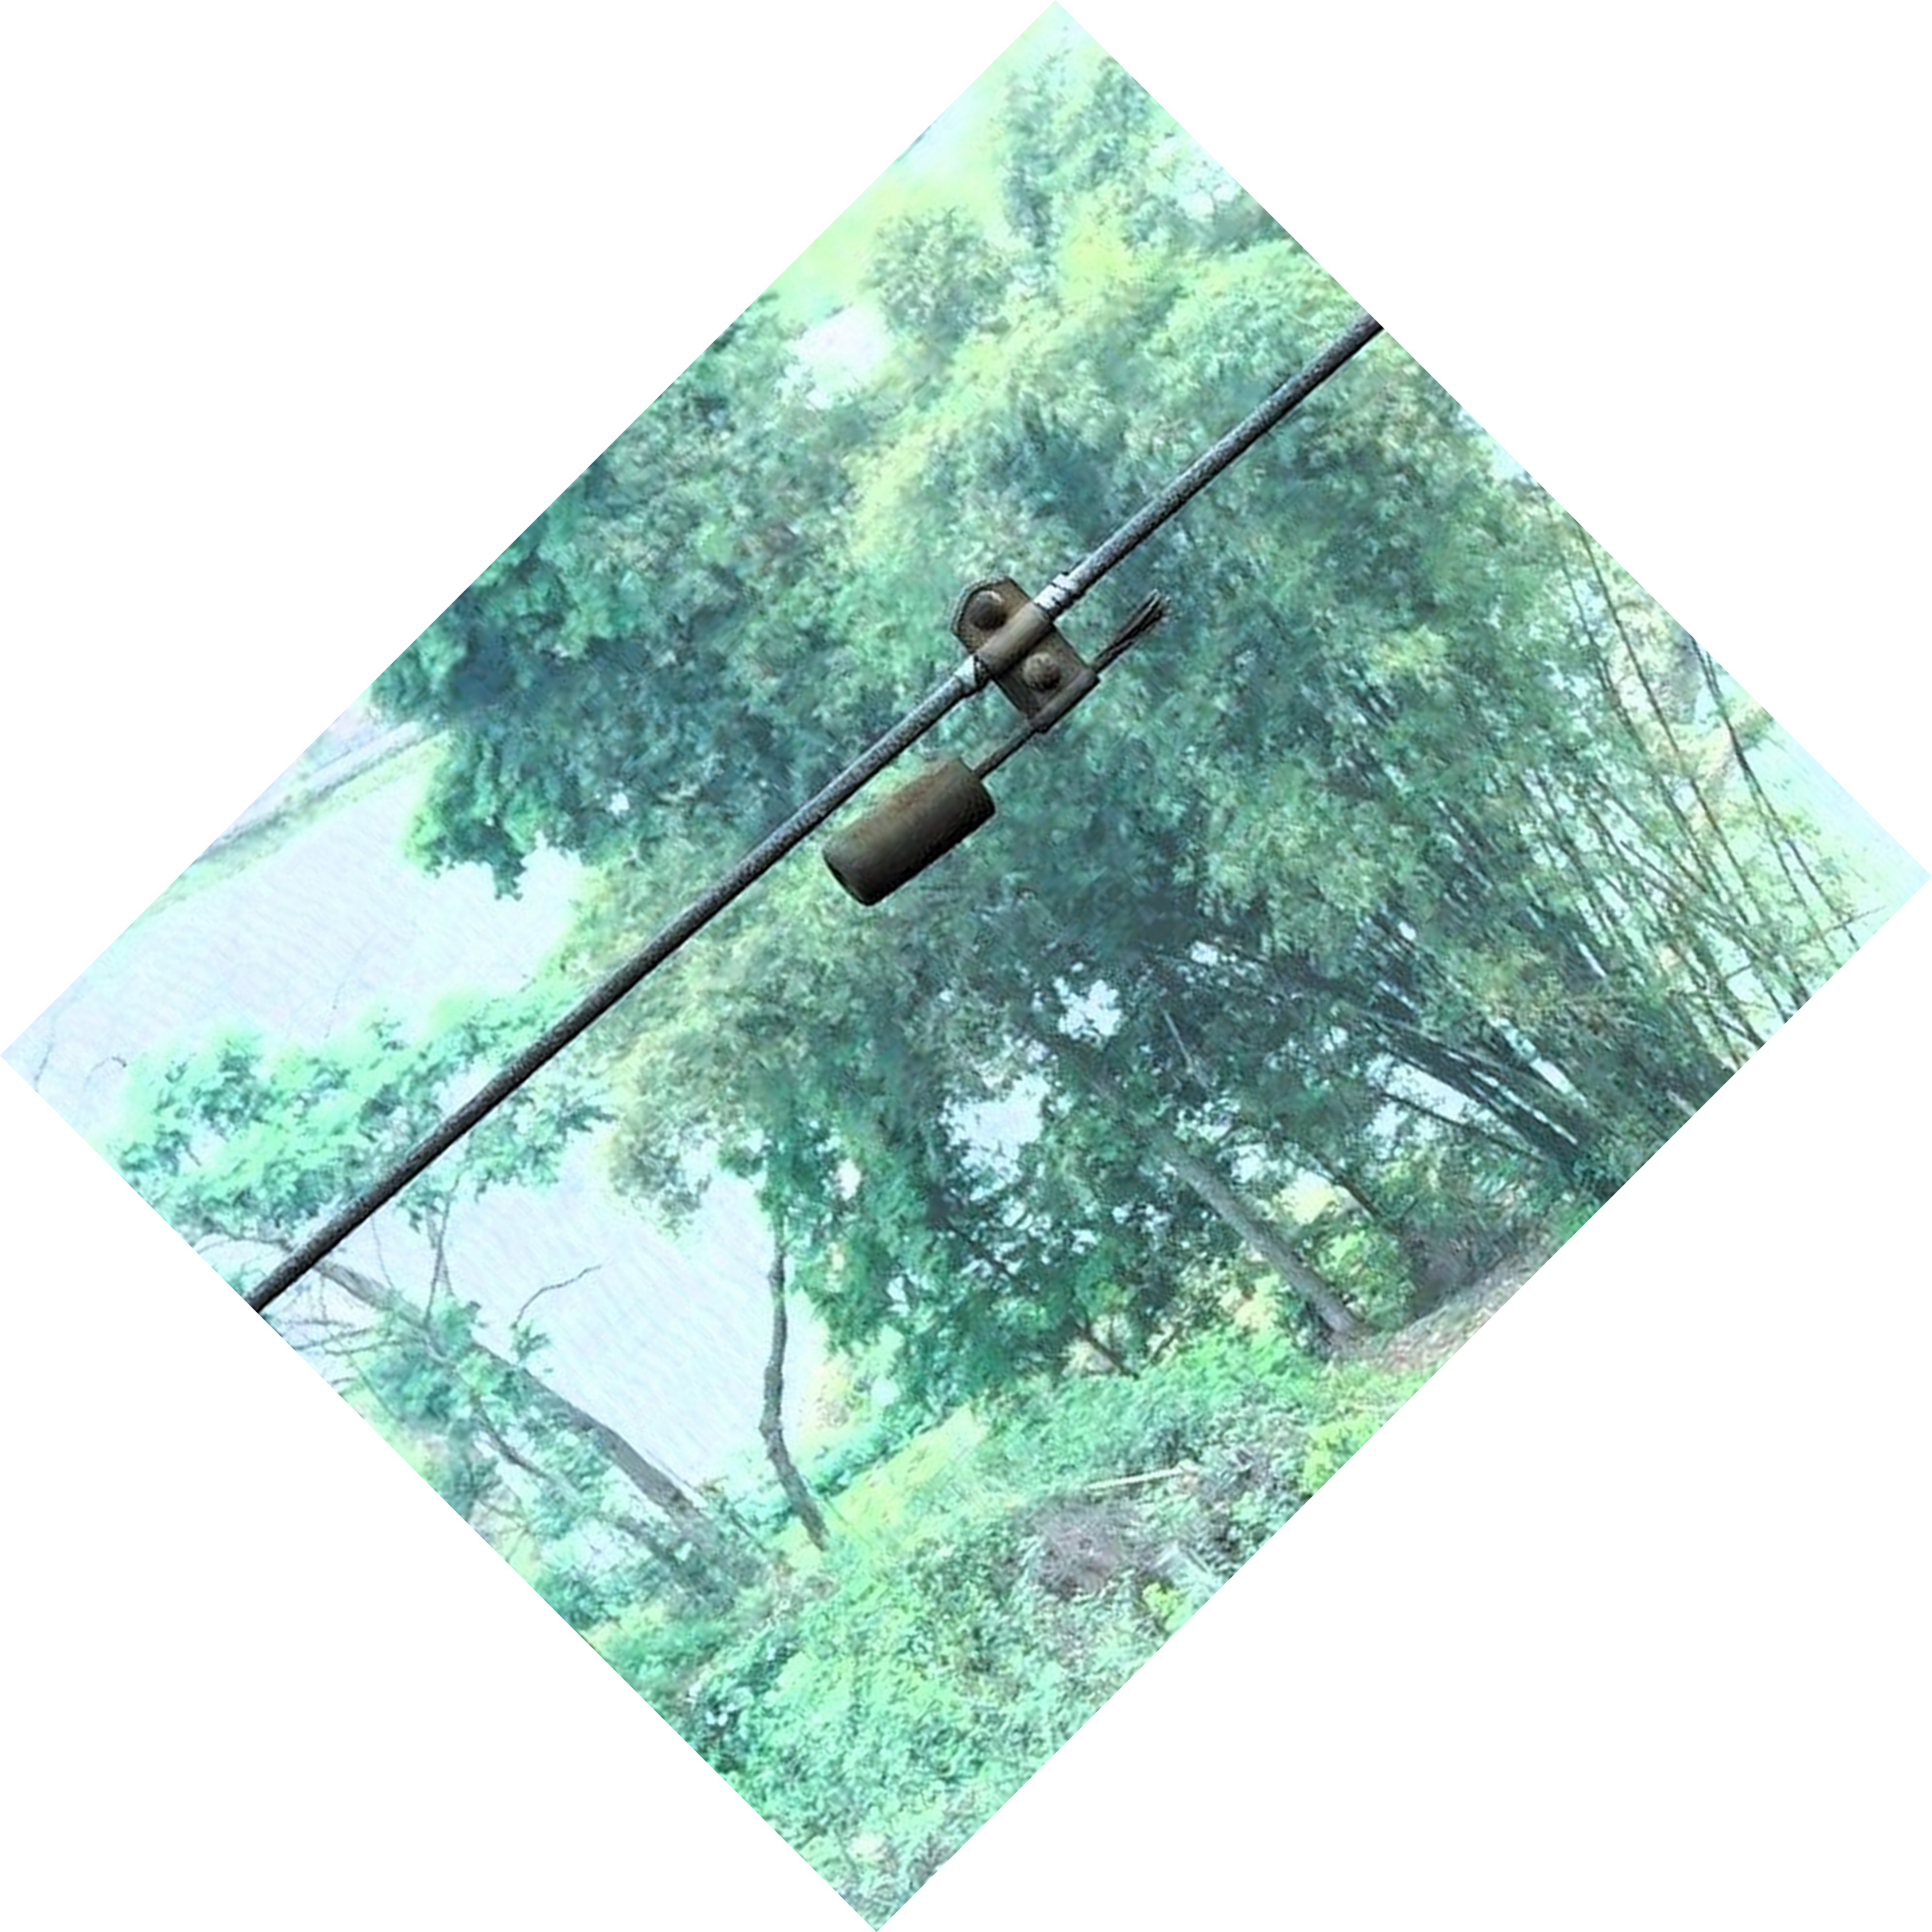Damage of shockproof hammer: (798, 522, 1244, 924)
